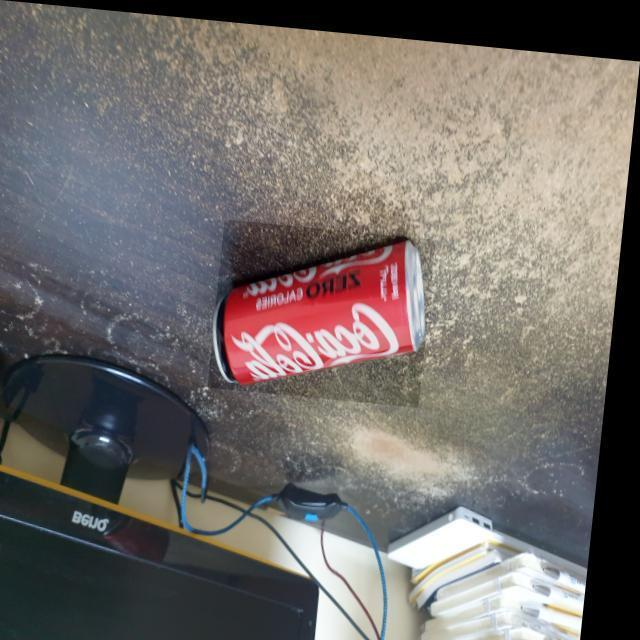trash: (204, 230, 430, 394)
